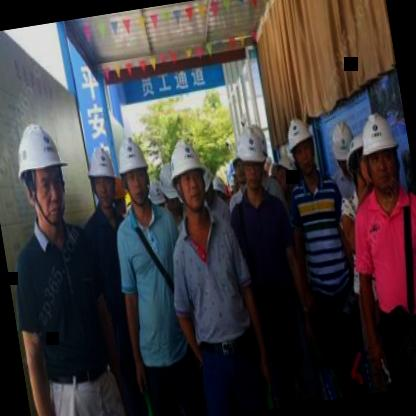helmet: (8, 116, 76, 233), (352, 108, 406, 201), (162, 136, 212, 212), (228, 115, 273, 198), (112, 128, 154, 209), (281, 108, 321, 180), (85, 137, 120, 215), (341, 133, 375, 197), (328, 125, 360, 182), (156, 157, 185, 219), (272, 152, 303, 200)
